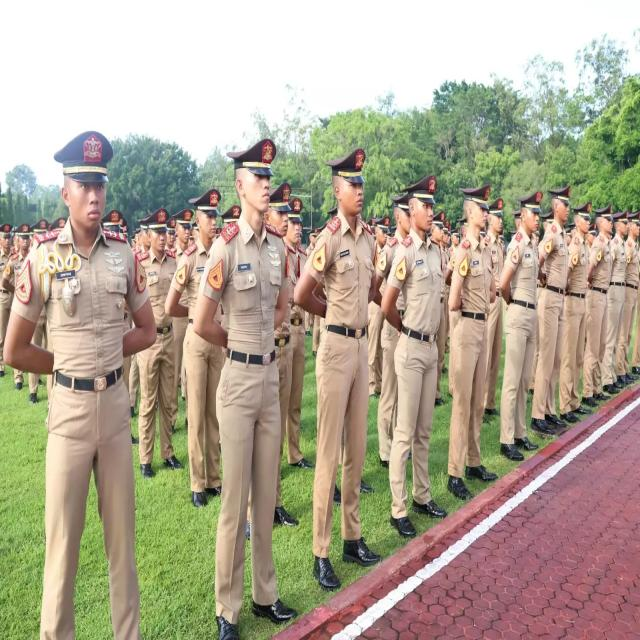peserta: (5, 146, 153, 640), (213, 146, 292, 638), (299, 136, 381, 592), (388, 151, 446, 562), (174, 185, 230, 526), (455, 169, 496, 532), (496, 176, 545, 467), (378, 186, 417, 471), (142, 200, 176, 490), (544, 181, 569, 447), (285, 176, 306, 460), (9, 216, 34, 427), (424, 203, 450, 383), (483, 187, 505, 382), (572, 180, 590, 412), (265, 180, 290, 329), (594, 180, 609, 398), (615, 194, 627, 407), (629, 194, 639, 370), (175, 205, 190, 276)
